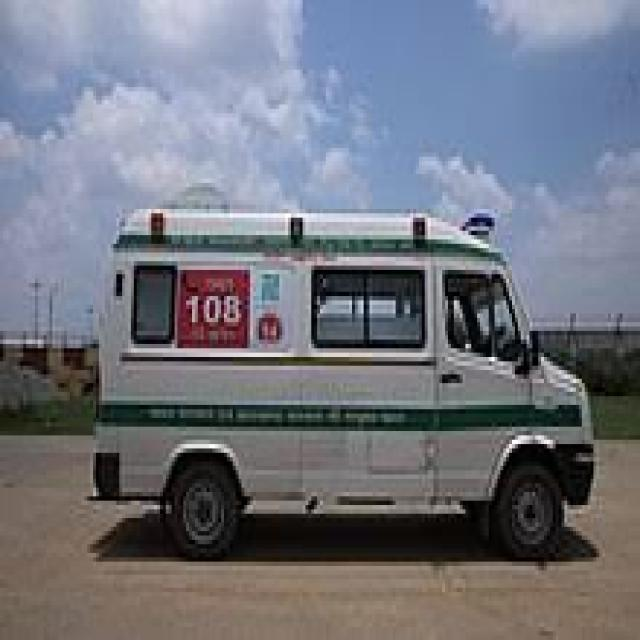Ambulance: (88, 183, 600, 566)
